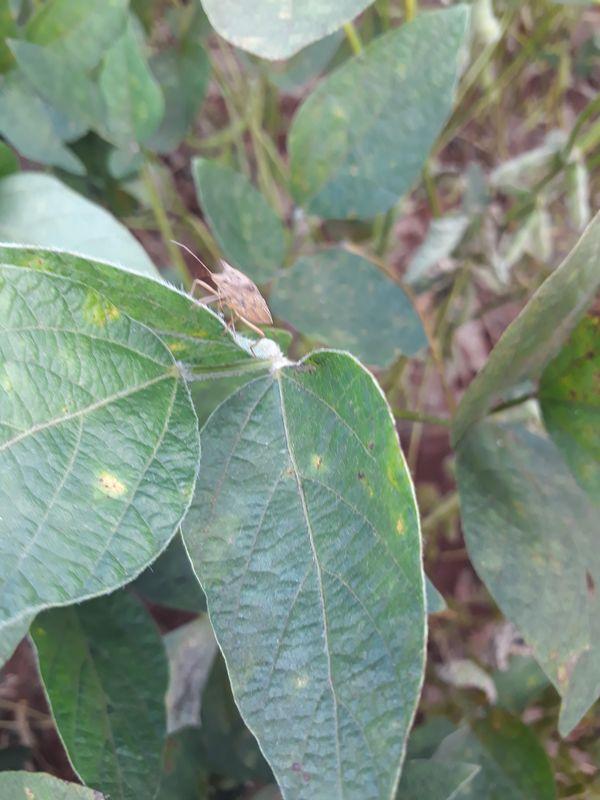Euschistus_heros_adulto: (170, 240, 289, 362)
